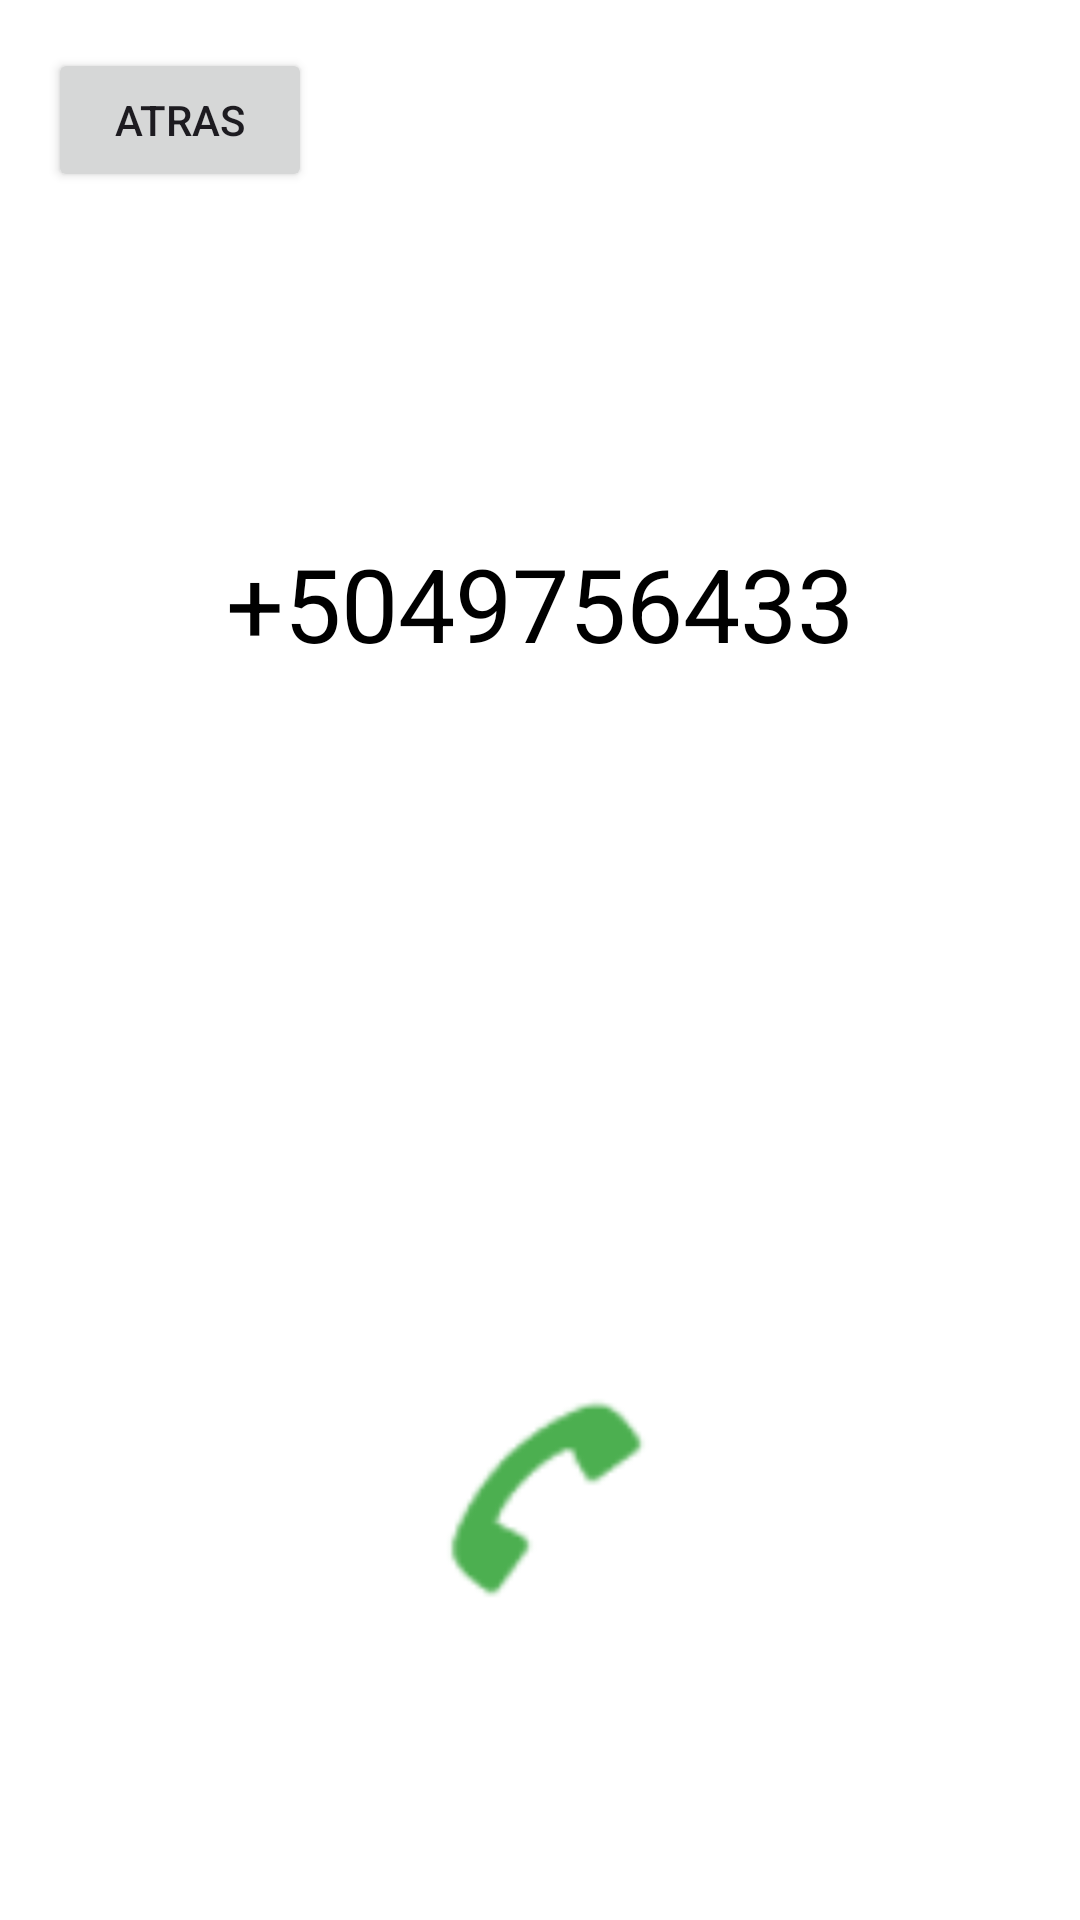

Screen size 1080 × 1920. Icon name, then its box in pixels as [x1=x1, y1=y1, x2=x2, y2=y2]:
sym action call: [x1=450, y1=1402, x2=642, y2=1596]
